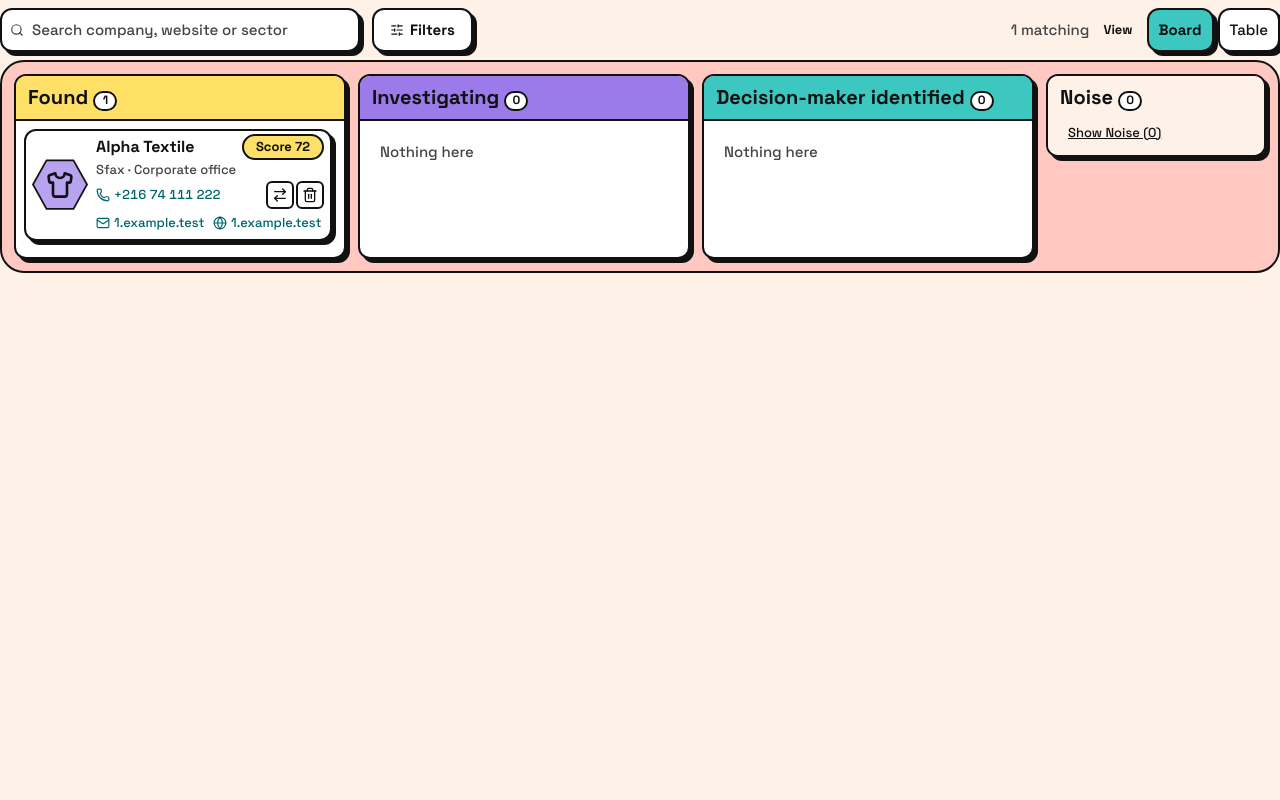
Companies board › moves a card from its menu at once, and the server keeps it there
Expected: the element "Alpha Textile" is shown, [24,129,332,241]
Click the button named "Move Alpha Textile to": (280, 194) [266,180,294,208]
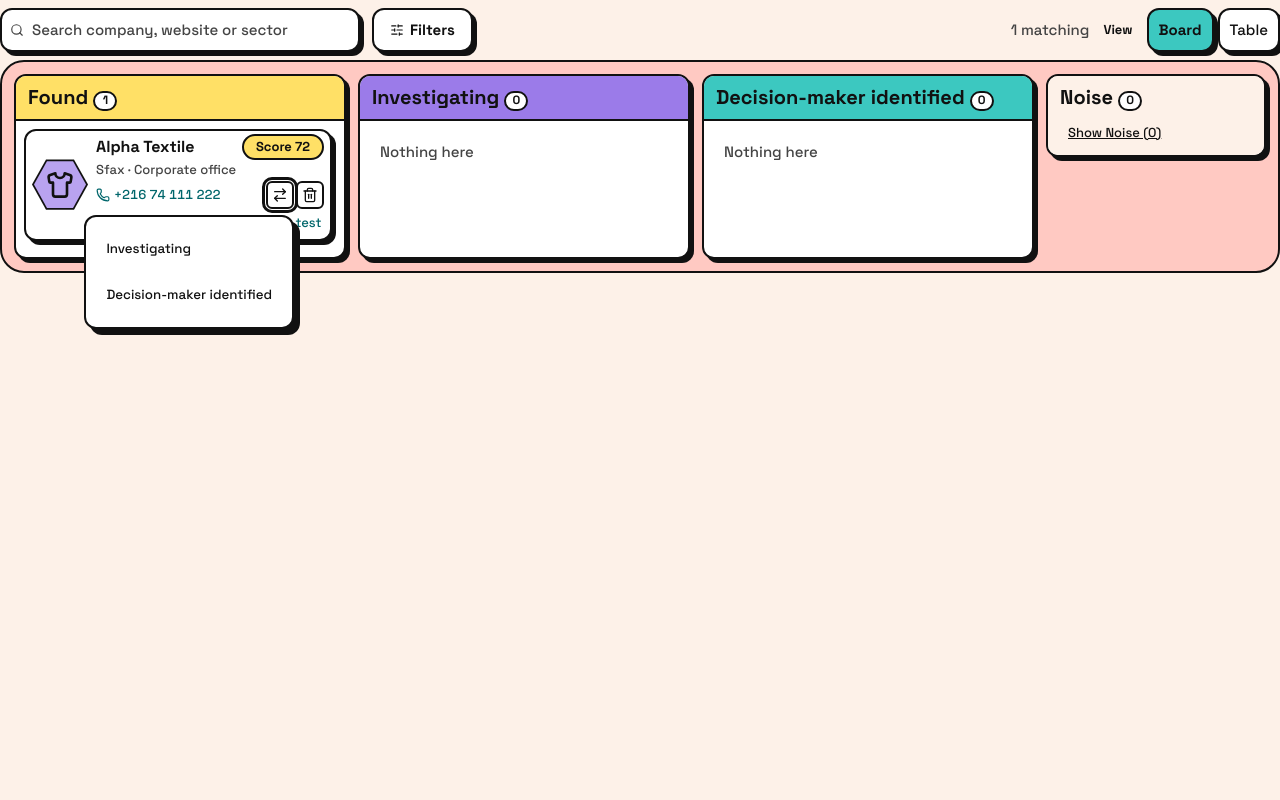
Click the button "Investigating": (149, 248) [98,226,199,270]
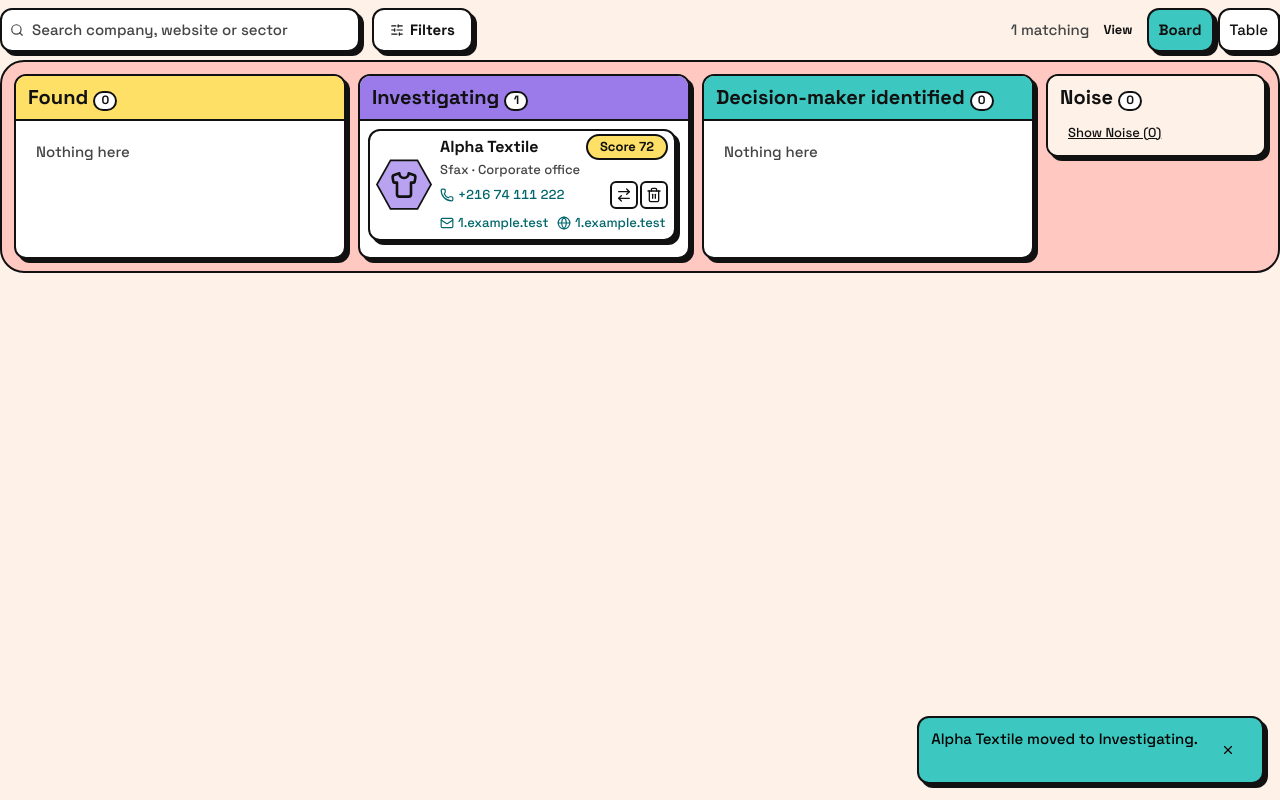
Expected: the heading "Alpha Textile" is shown, [440,136,538,157]
Expected: the text "Alpha Textile moved to Investigating." is shown, [931,728,1198,750]
